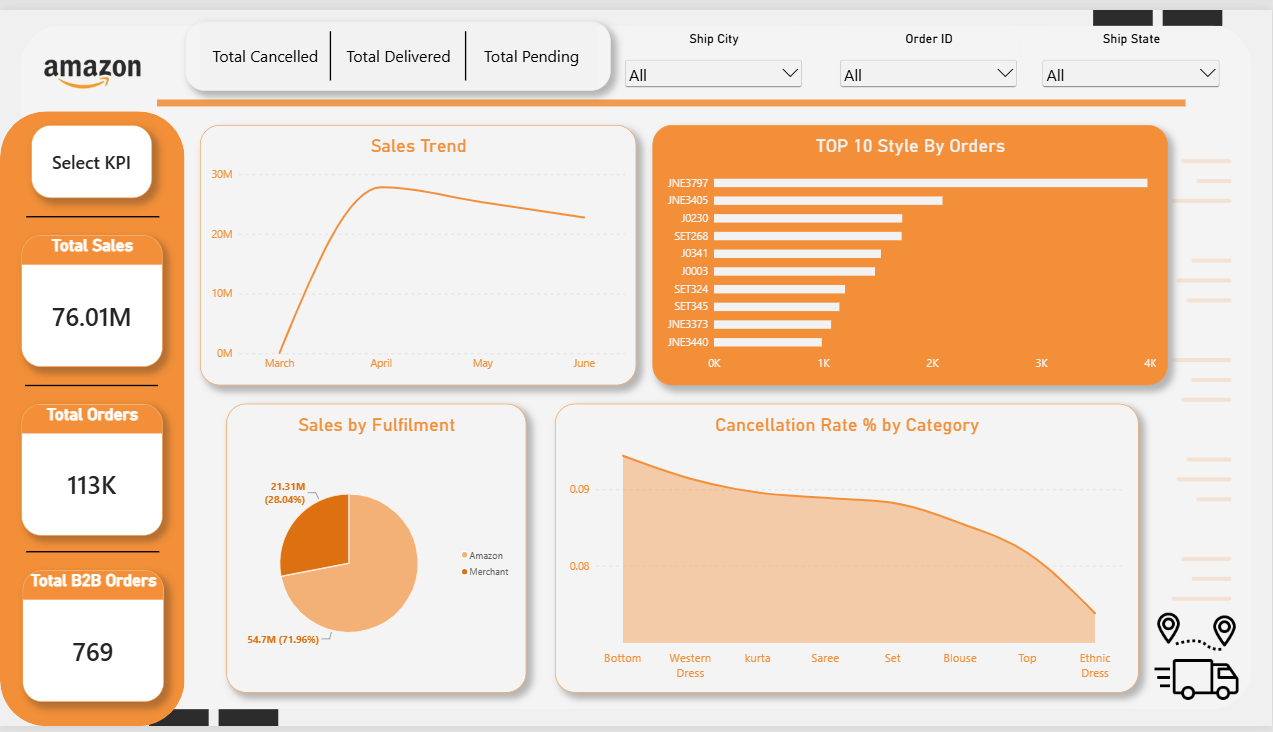

The page's visual inventory and layout, read from the dashboard file:
{"tool":"powerbi","page":{"name":"Page 1","canvas":[1920,1080],"ordinal":0},"visuals":[{"type":"image","box":[0,0,278.7,193.6],"z":0},{"type":"shape","box":[0,152,278.7,928.4],"z":1000},{"type":"slicer","title":"Ship City","fields":{"Values":["Amazon_Sale_Report.ship-city"]},"box":[937.4,32.6,278.7,92.3],"z":2000},{"type":"slicer","title":"Ship State","fields":{"Values":["Amazon_Sale_Report.ship-state"]},"box":[1567.2,32.6,278.7,92.3],"z":3000},{"type":"slicer","title":"Order ID","fields":{"Values":["Amazon_Sale_Report.Order ID"]},"box":[1261.3,32.6,278.7,88.7],"z":4000},{"type":"slicer","fields":{"Values":["Metrix.Metrix"]},"box":[278.7,16.3,642.4,105],"z":5000},{"type":"cardVisual","fields":{"Data":["Metrix.KPI"]},"box":[47.1,173.7,182.8,110.4],"z":6000},{"type":"cardVisual","title":"Total Sales","fields":{"Data":["Amazon_Sale_Report.Total Sales"]},"box":[32.6,340.2,213.5,199.1],"z":7000},{"type":"cardVisual","title":"Total Orders","fields":{"Data":["Amazon_Sale_Report.Total Orders"]},"box":[32.6,593.6,213.5,199.1],"z":8000},{"type":"cardVisual","title":"Total B2B Orders","fields":{"Data":["Amazon_Sale_Report.B2B Orders"]},"box":[34.4,845.1,213.5,199.1],"z":9000},{"type":"shape","box":[39.8,284.1,200.9,54.3],"z":10000},{"type":"shape","box":[38,539.3,200.9,54.3],"z":11000},{"type":"shape","box":[39.8,790.8,200.9,54.3],"z":12000},{"type":"shape","box":[470.5,32.6,57.9,74.2],"z":13000},{"type":"shape","box":[678.6,32.6,47.1,74.2],"z":14000},{"type":"image","box":[1706.5,908.4,200.9,135.7],"z":15000},{"type":"lineChart","title":" Sales Trend","fields":{"Category":["Amazon_Sale_Report.Date.Variation.Date Hierarchy.Month"],"Y":["Amazon_Sale_Report.Total Sales"]},"box":[301.9,173.6,658.5,392.5],"z":16000},{"type":"pieChart","title":"Sales by Fulfilment","fields":{"Category":["Amazon_Sale_Report.Fulfilment"],"Y":["Amazon_Sale_Report.Total Sales"]},"box":[341.5,594.3,452.8,435.8],"z":17000},{"type":"areaChart","fields":{"Category":["Amazon_Sale_Report.Category"],"Y":["Amazon_Sale_Report.Cancellation Rate %"]},"box":[837.7,594.3,881.1,435.8],"z":18000},{"type":"clusteredBarChart","title":"TOP 10 Style By Orders","fields":{"Category":["Amazon_Sale_Report.Style"],"Y":["Amazon_Sale_Report.Total Orders"]},"box":[984.9,173.6,777.4,392.5],"z":19000}]}

Visuals, with their boxes in screenshot pixels (x1, y1, x2, y2), scaled from the page's 1920x1080 canvas onto the 1273x732 screenshot:
image: region(0, 0, 185, 131)
shape: region(0, 103, 185, 731)
"Ship City" slicer: region(622, 22, 806, 85)
"Ship State" slicer: region(1039, 22, 1224, 85)
"Order ID" slicer: region(836, 22, 1021, 82)
slicer - Metrix.Metrix: region(185, 11, 611, 82)
cardVisual - Metrix.KPI: region(31, 118, 152, 193)
"Total Sales" cardVisual: region(22, 231, 163, 366)
"Total Orders" cardVisual: region(22, 402, 163, 537)
"Total B2B Orders" cardVisual: region(23, 573, 164, 708)
shape: region(26, 193, 160, 229)
shape: region(25, 366, 158, 402)
shape: region(26, 536, 160, 573)
shape: region(312, 22, 350, 72)
shape: region(450, 22, 481, 72)
image: region(1131, 616, 1265, 708)
" Sales Trend" lineChart: region(200, 118, 637, 384)
"Sales by Fulfilment" pieChart: region(226, 403, 527, 698)
areaChart - Amazon_Sale_Report.Category x Amazon_Sale_Report.Cancellation Rate %: region(555, 403, 1140, 698)
"TOP 10 Style By Orders" clusteredBarChart: region(653, 118, 1168, 384)
